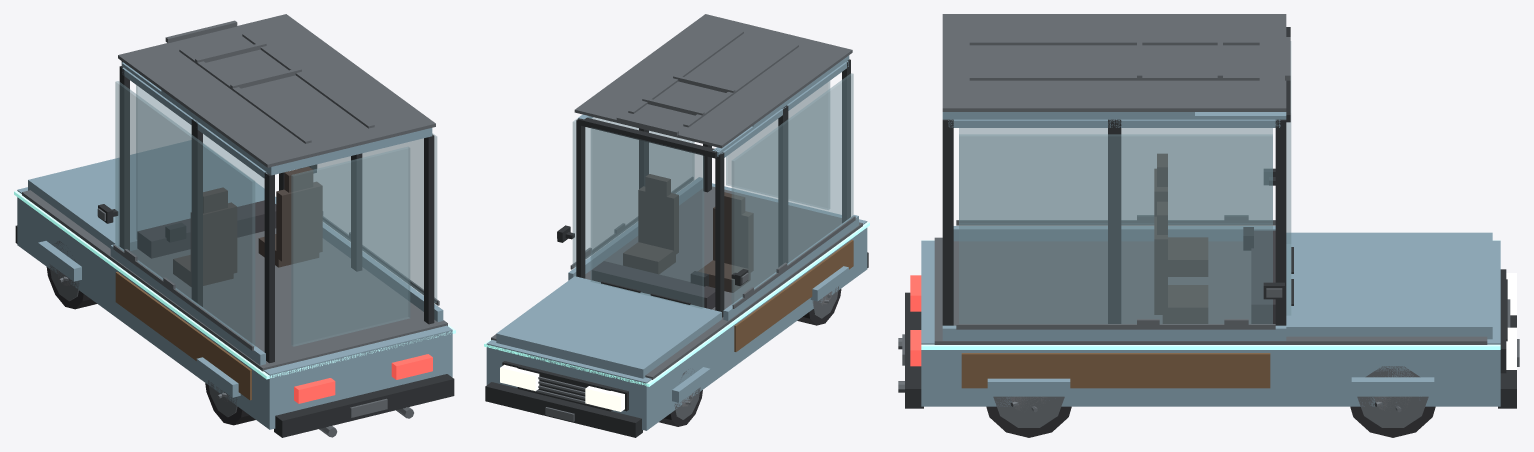
Rendered from station_wagon.glb.
3 renders of one model, left to right at view 1: azimuth 30°, elevation 25°; view 2: azimuth 150°, elevation 25°; view 3: azimuth 270°, elevation 25°, orthographic. The views are drawn at different scales.
Parts seen in each view (by area): view 1: StationWagon_GlassSideL, StationWagon_Drip, StationWagon_GlassR, StationWagon_BeltChrome, StationWagon_Hull, StationWagon_Hood, StationWagon_GlassSideR, StationWagon_GlassF, StationWagon_WoodL, StationWagon_BumperR, StationWagon_PassengerBack, StationWagon_DriverBack (+31 smaller); view 2: StationWagon_GlassSideL, StationWagon_GlassF, StationWagon_Drip, StationWagon_Hood, StationWagon_Hull, StationWagon_BeltChrome, StationWagon_GlassSideR, StationWagon_GlassR, StationWagon_WoodL, StationWagon_BumperF, StationWagon_Dash, StationWagon_PassengerBack (+28 smaller); view 3: StationWagon_GlassSideR, StationWagon_Drip, StationWagon_GlassSideL, StationWagon_BeltChrome, StationWagon_Hood, StationWagon_Hull, StationWagon_WoodR, StationWagon_SillR, StationWagon_SillL, StationWagon_Lip, StationWagon_RailR, StationWagon_PillarBR (+21 smaller).
Part boxes in pixels (bbox=[...]): StationWagon_GlassSideL: bbox=[115, 81, 255, 347]; StationWagon_Drip: bbox=[118, 14, 435, 167]; StationWagon_GlassR: bbox=[291, 146, 410, 346]; StationWagon_BeltChrome: bbox=[22, 190, 447, 371]; StationWagon_Hull: bbox=[17, 187, 452, 429]; StationWagon_Hood: bbox=[28, 140, 276, 250]; StationWagon_GlassSideR: bbox=[309, 133, 437, 302]; StationWagon_GlassF: bbox=[136, 85, 264, 239]; StationWagon_WoodL: bbox=[115, 272, 251, 400]; StationWagon_BumperR: bbox=[274, 374, 454, 437]; StationWagon_PassengerBack: bbox=[276, 181, 322, 261]; StationWagon_DriverBack: bbox=[190, 202, 237, 280]; StationWagon_GlassSideL: bbox=[731, 73, 853, 305]; StationWagon_GlassF: bbox=[590, 127, 704, 308]; StationWagon_Drip: bbox=[574, 14, 852, 148]; StationWagon_Hood: bbox=[496, 276, 721, 378]; StationWagon_Hull: bbox=[486, 183, 867, 430]; StationWagon_BeltChrome: bbox=[491, 186, 862, 379]; StationWagon_GlassSideR: bbox=[572, 117, 694, 267]; StationWagon_GlassR: bbox=[726, 81, 830, 209]; StationWagon_WoodL: bbox=[734, 240, 853, 351]; StationWagon_BumperF: bbox=[485, 382, 642, 437]; StationWagon_Dash: bbox=[591, 261, 715, 309]; StationWagon_PassengerBack: bbox=[638, 186, 678, 254]; StationWagon_GlassSideR: bbox=[959, 134, 1272, 323]; StationWagon_Drip: bbox=[942, 14, 1286, 111]; StationWagon_GlassSideL: bbox=[959, 128, 1272, 224]; StationWagon_BeltChrome: bbox=[934, 237, 1487, 344]; StationWagon_Hood: bbox=[1286, 232, 1492, 339]; StationWagon_Hull: bbox=[921, 240, 1500, 406]; StationWagon_WoodR: bbox=[961, 353, 1270, 388]; StationWagon_SillR: bbox=[942, 325, 1286, 340]; StationWagon_SillL: bbox=[953, 226, 1275, 241]; StationWagon_Lip: bbox=[921, 240, 1500, 349]; StationWagon_RailR: bbox=[948, 119, 1280, 127]; StationWagon_PillarBR: bbox=[1108, 119, 1121, 323].
Size of the model in its own units: 2.09 by 2.71 by 4.61.
